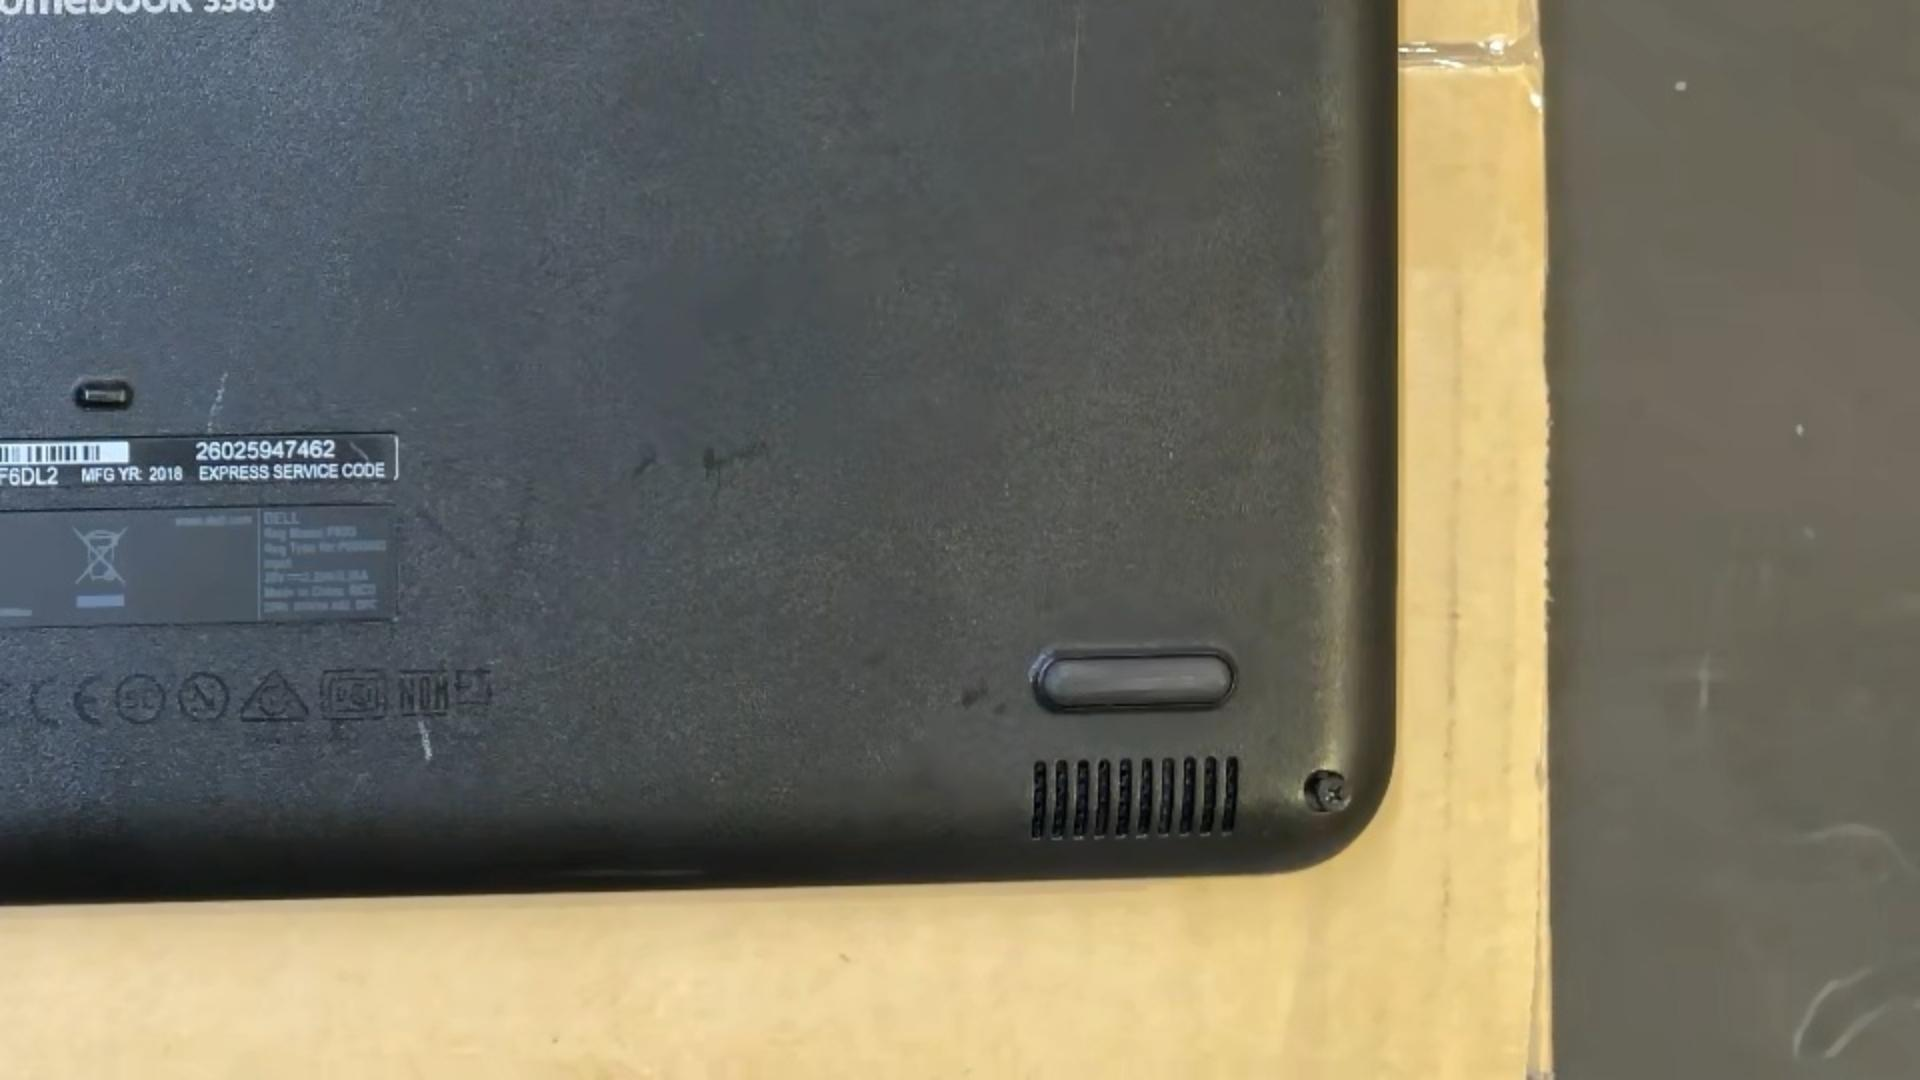scratches: (410, 502, 484, 563), (509, 476, 535, 568), (202, 369, 231, 434), (1069, 5, 1083, 115), (415, 717, 436, 761), (344, 439, 372, 464)
